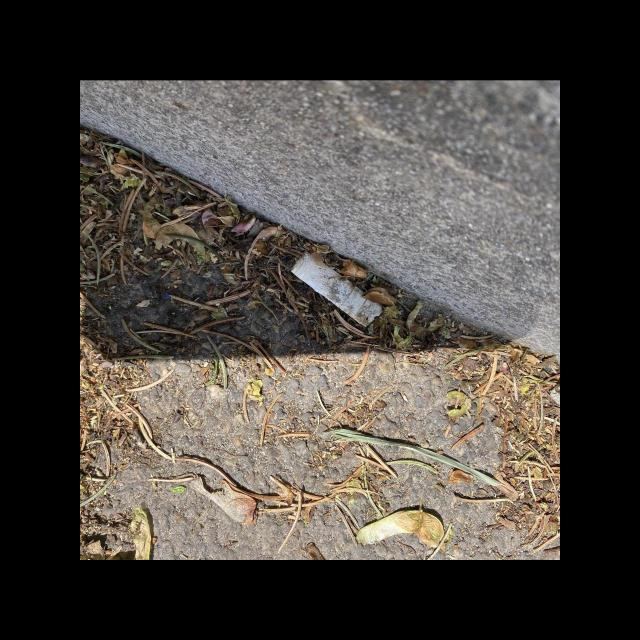cigarette: (290, 251, 382, 327)
